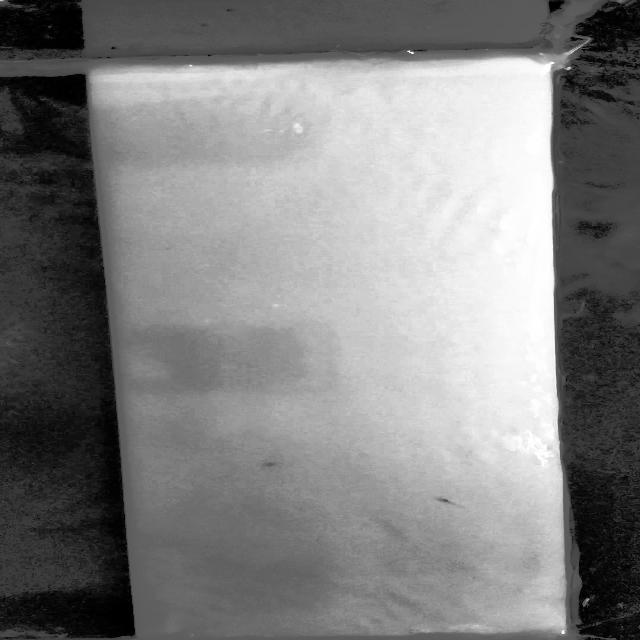shrimp: (427, 495, 471, 511), (257, 459, 293, 470)
